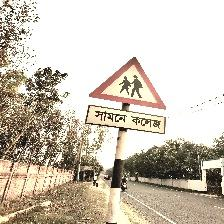College-in-front: (67, 42, 169, 149)
